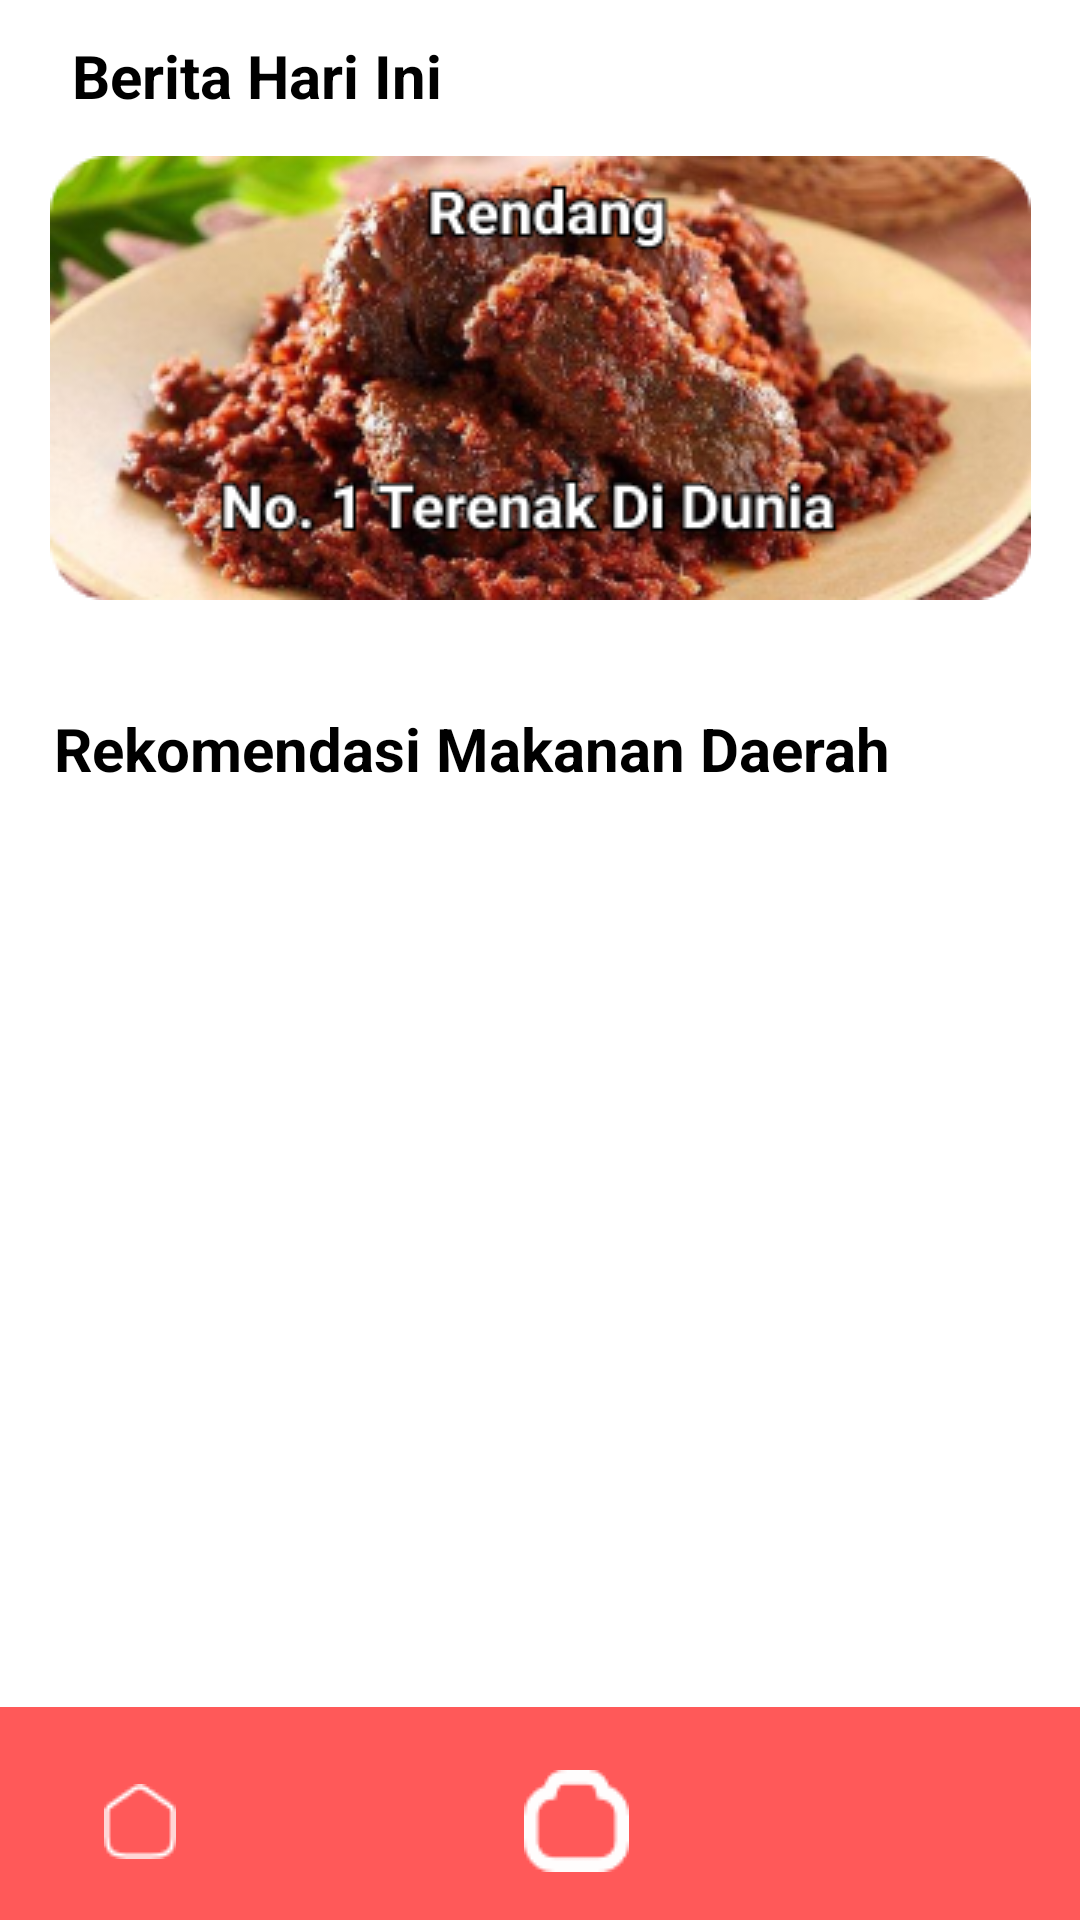

Screen size 1080px×1920px. Icon name, then its box in pixels as (x1, y1, x2, y2):
home: (104, 1784, 176, 1859)
